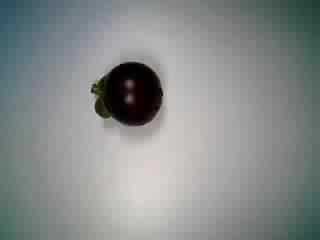mangosteen: (86, 58, 169, 133)
